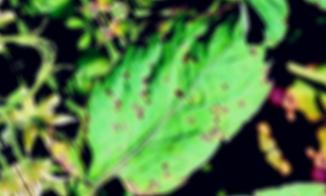Tomato leaf bacterial spot: (46, 0, 309, 196)
